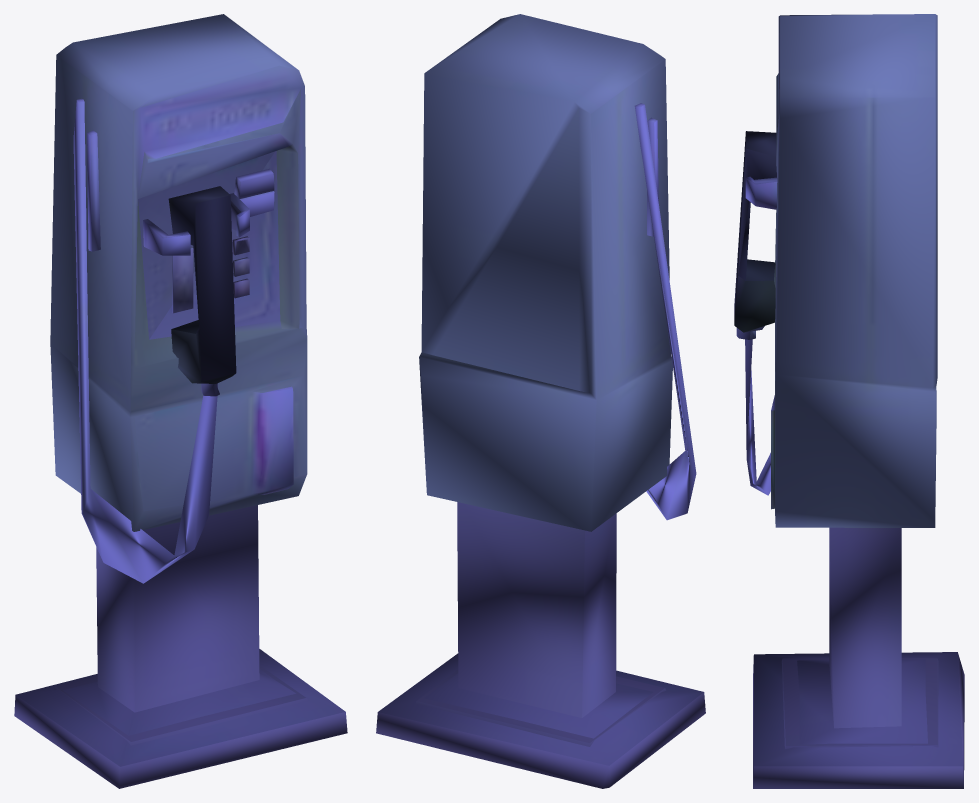
File: model.progressive.glb
3 renders of one model, left to right at view 1: azimuth 30°, elevation 25°; view 2: azimuth 150°, elevation 25°; view 3: azimuth 270°, elevation 25°, orthographic. The views are drawn at different scales.
Parts seen in each view (by area): view 1: material; view 2: material; view 3: material.
Boxes of the visible parts, x1,y1,x2,y2 form: material: [14, 14, 347, 788]; material: [376, 14, 705, 788]; material: [734, 14, 964, 788].
Bounding box in the file's own units: 0.7128 × 1.89 × 0.5786.
Materials: 1 (1 with a texture image).
